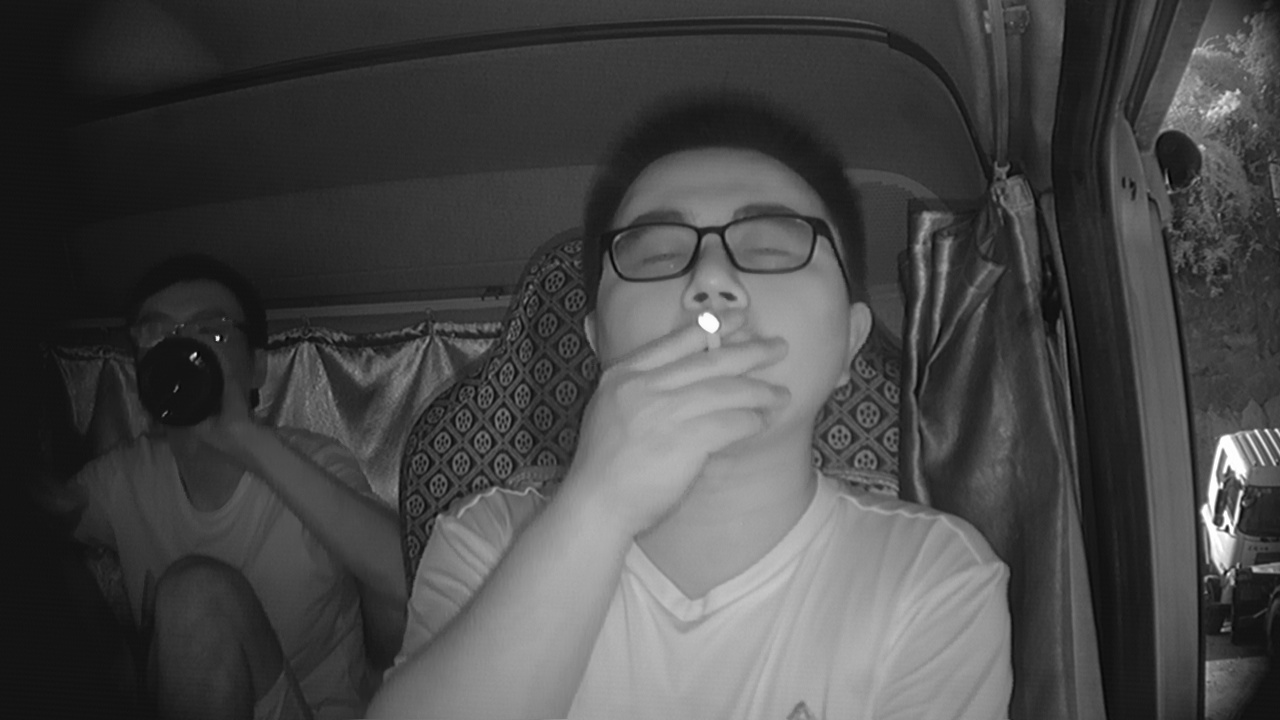hand: (620, 313, 777, 489)
